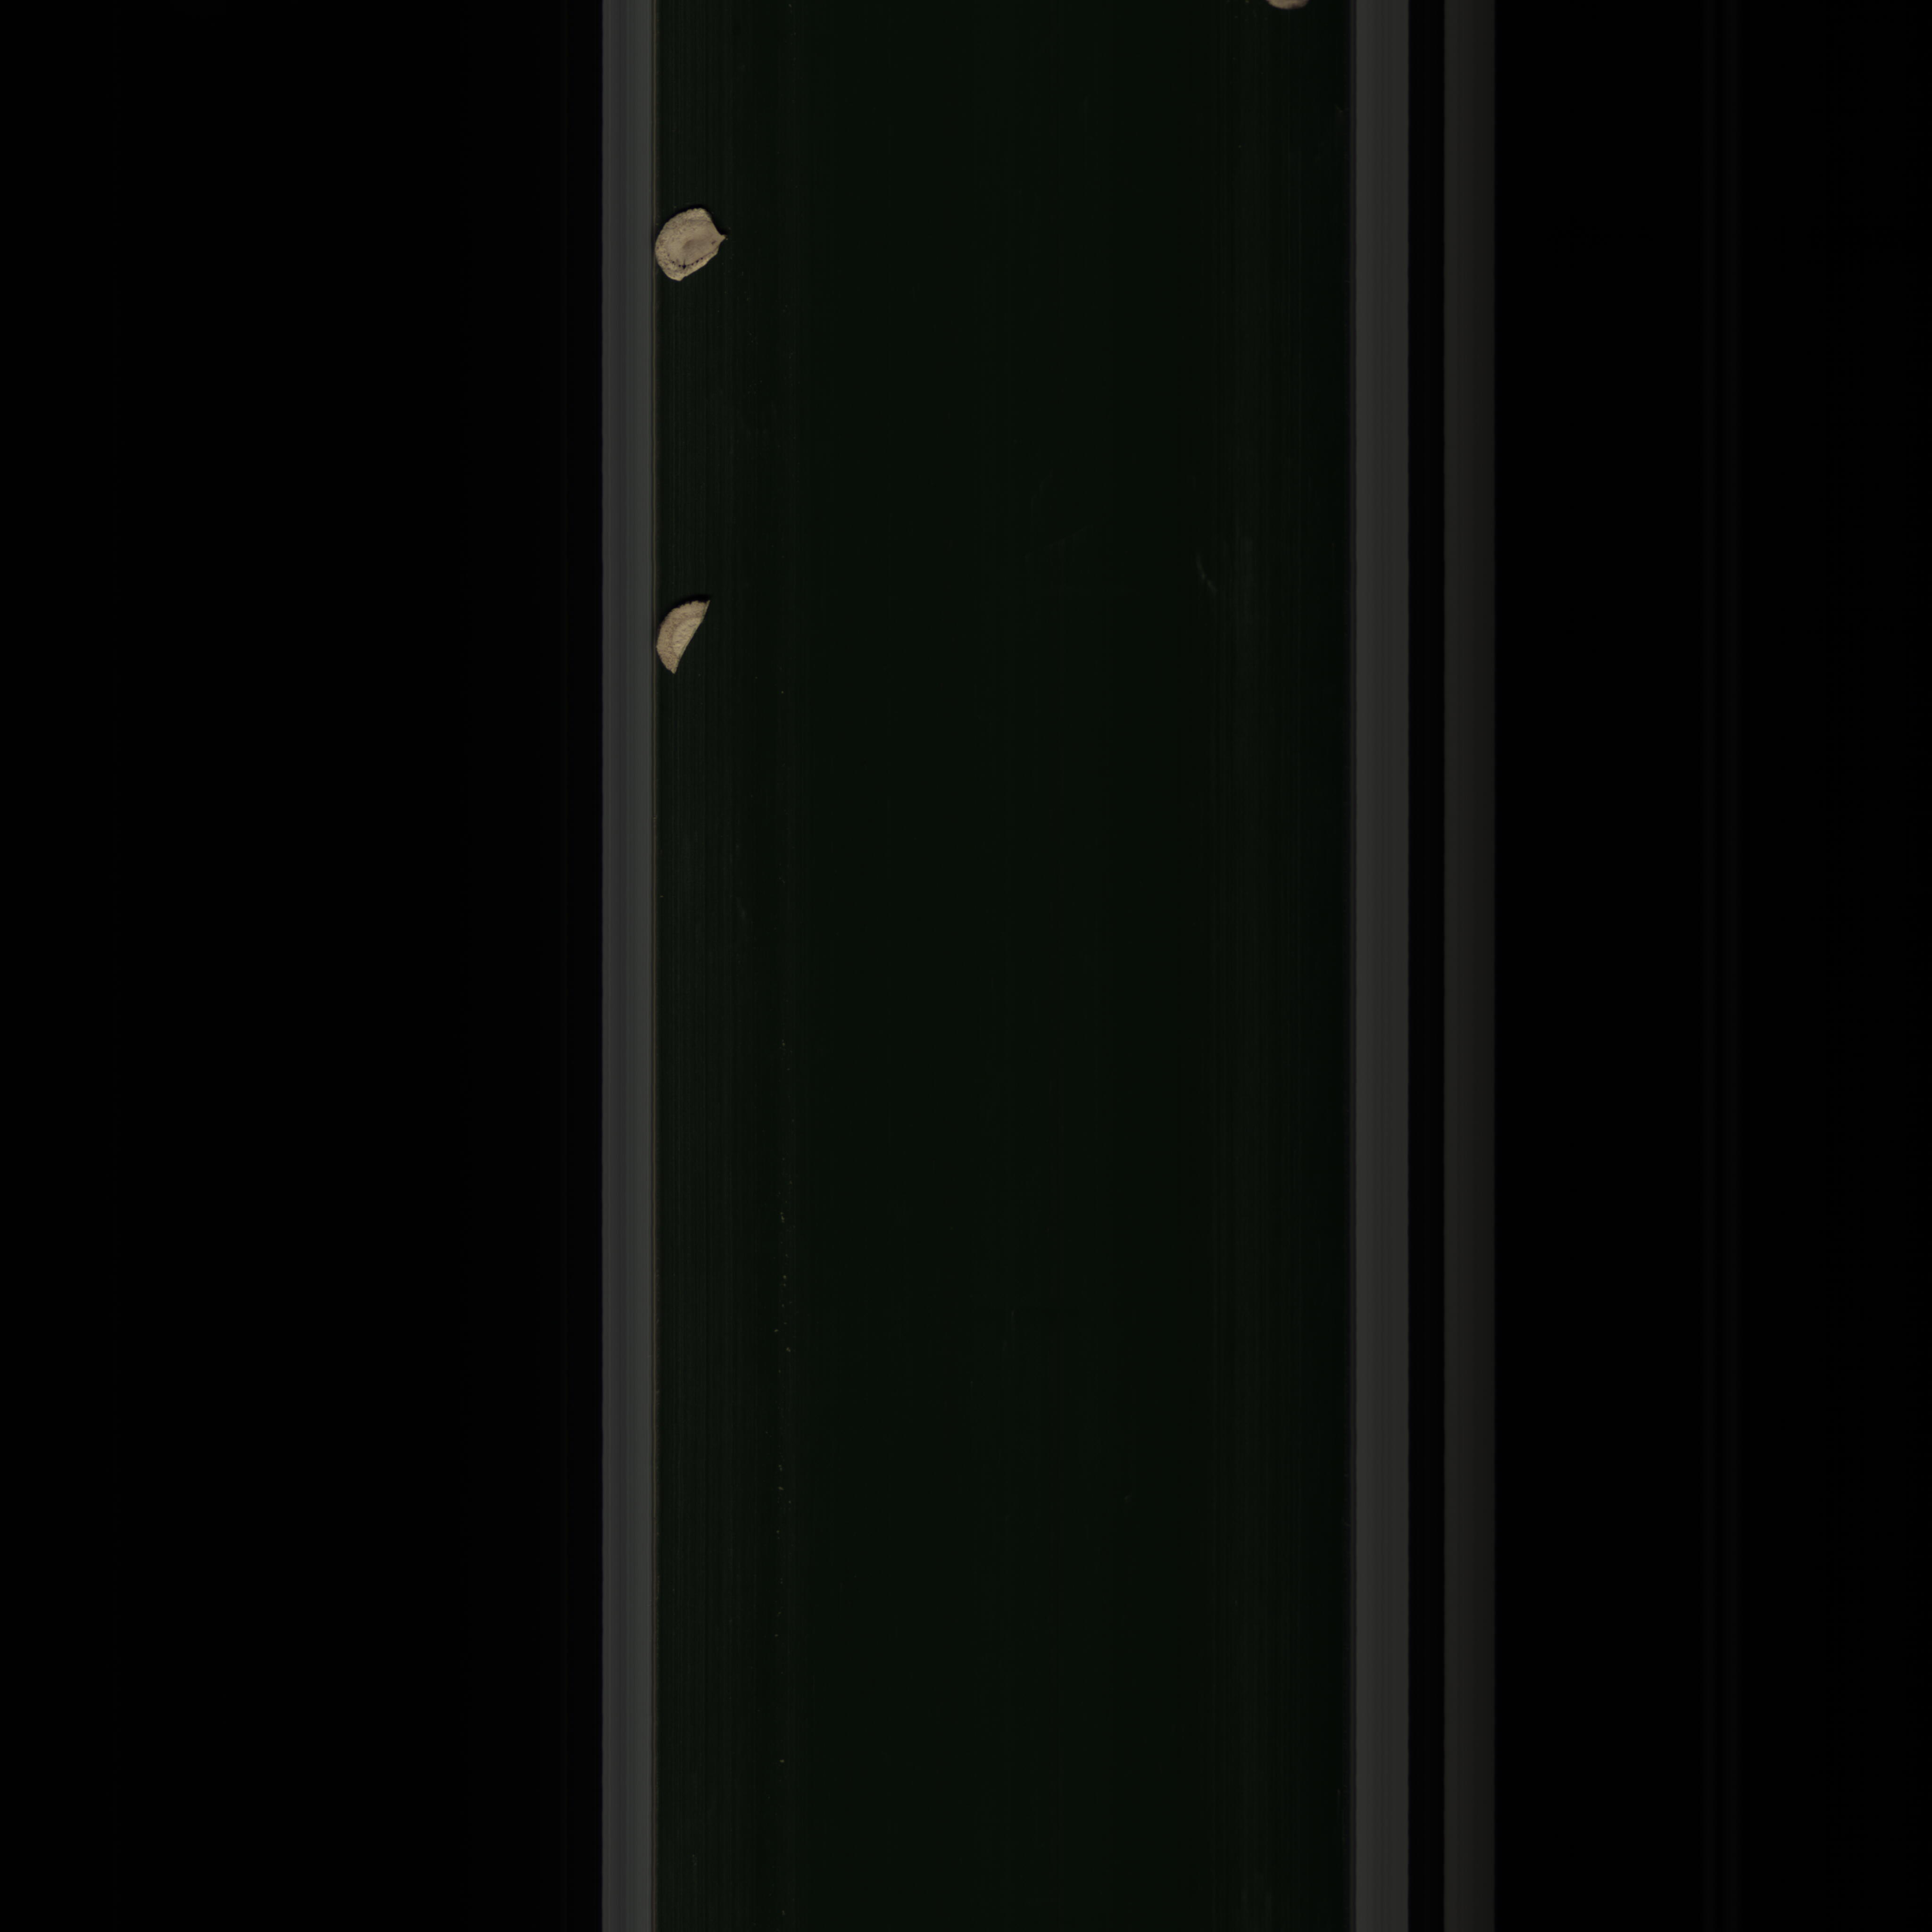debris: (653, 202, 732, 290), (656, 593, 724, 672)
